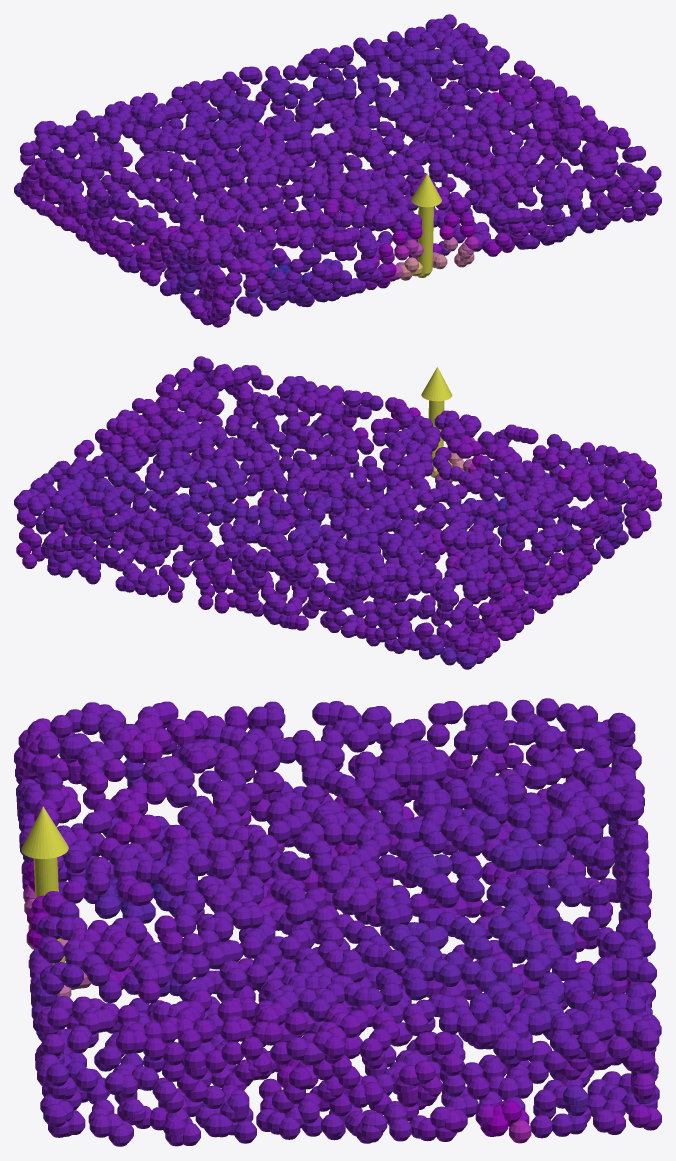
Rendered from pred_heatmap_0.glb.
3 views of the same model, one above another, from view 1: azimuth 30°, elevation 25°; view 2: azimuth 150°, elevation 25°; view 3: azimuth 270°, elevation 25° (orthographic). The views are drawn at different scales.
Parts seen in each view (by area): view 1: world; view 2: world; view 3: world.
Boxes of the visible parts, x1=… form: world: x1=14, y1=14, x2=661, y2=327; world: x1=14, y1=356, x2=661, y2=669; world: x1=14, y1=698, x2=661, y2=1146.
Bounding box in the file's own units: 2.1 × 0.4711 × 1.63.
